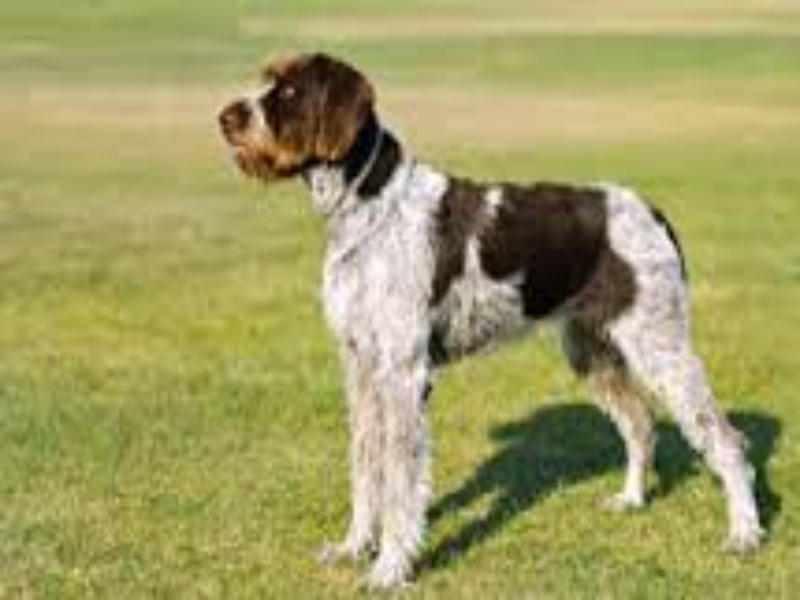dog: (198, 32, 783, 597)
